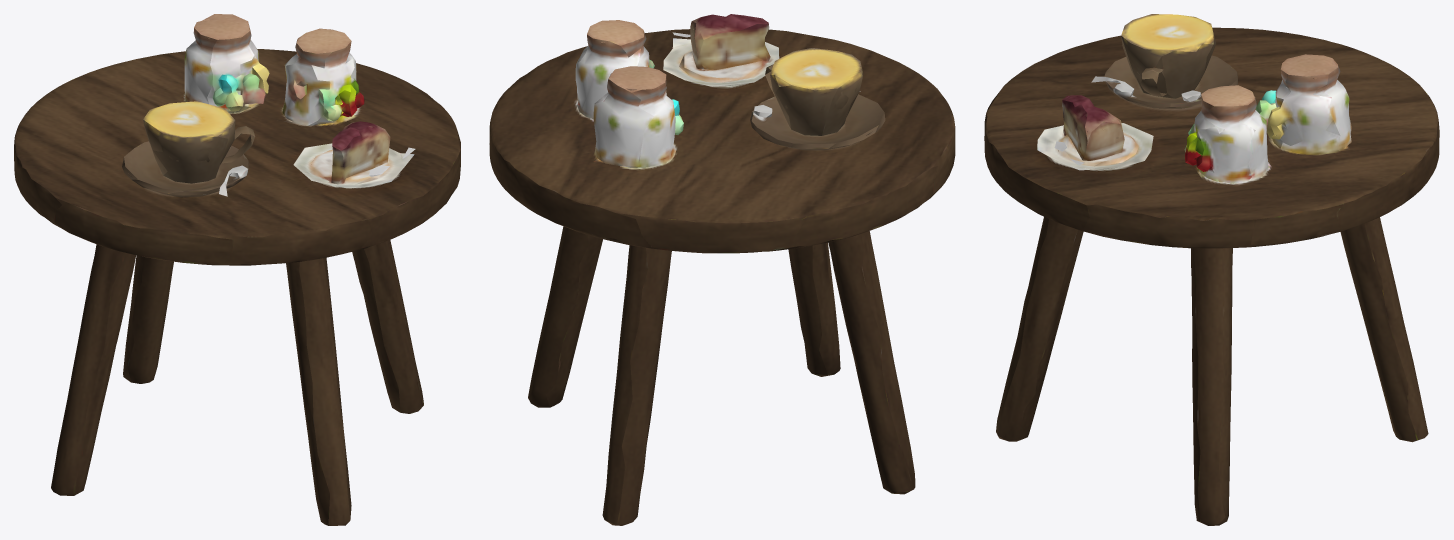
Rendered from table.glb.
3 renders of one model, left to right at view 1: azimuth 30°, elevation 25°; view 2: azimuth 150°, elevation 25°; view 3: azimuth 270°, elevation 25°, orthographic. The views are drawn at different scales.
Parts seen in each view (by area): view 1: world; view 2: world; view 3: world.
Part boxes in pixels (x1=…): world: x1=14, y1=14, x2=460, y2=525; world: x1=489, y1=14, x2=955, y2=525; world: x1=984, y1=14, x2=1439, y2=525.
Bounding box in the file's own units: 0.6 × 0.569 × 0.6003.
1 material, 1 textured.
